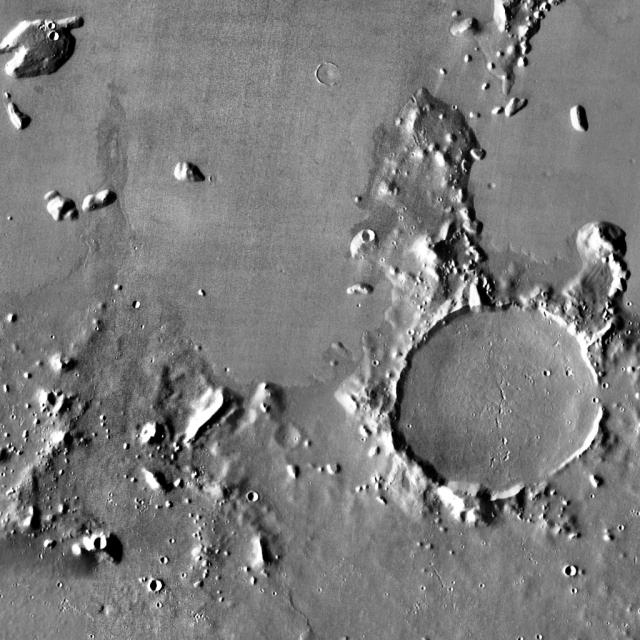crater: (391, 300, 606, 500), (522, 0, 640, 132), (594, 357, 640, 433), (272, 421, 302, 450), (318, 63, 343, 85), (96, 535, 110, 548), (564, 566, 576, 576), (149, 582, 161, 592), (48, 30, 58, 40), (247, 492, 257, 502), (363, 232, 373, 240), (489, 180, 497, 188), (134, 300, 142, 307), (544, 371, 552, 376), (50, 24, 56, 29)
